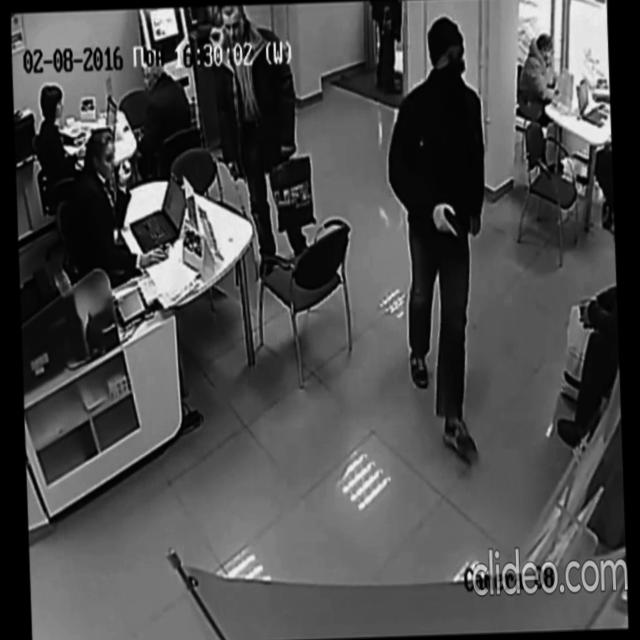gun: (442, 204, 469, 248)
person: (210, 1, 312, 279), (64, 122, 170, 286), (512, 28, 567, 176), (33, 81, 90, 208)
person with a gun: (381, 14, 496, 469)
